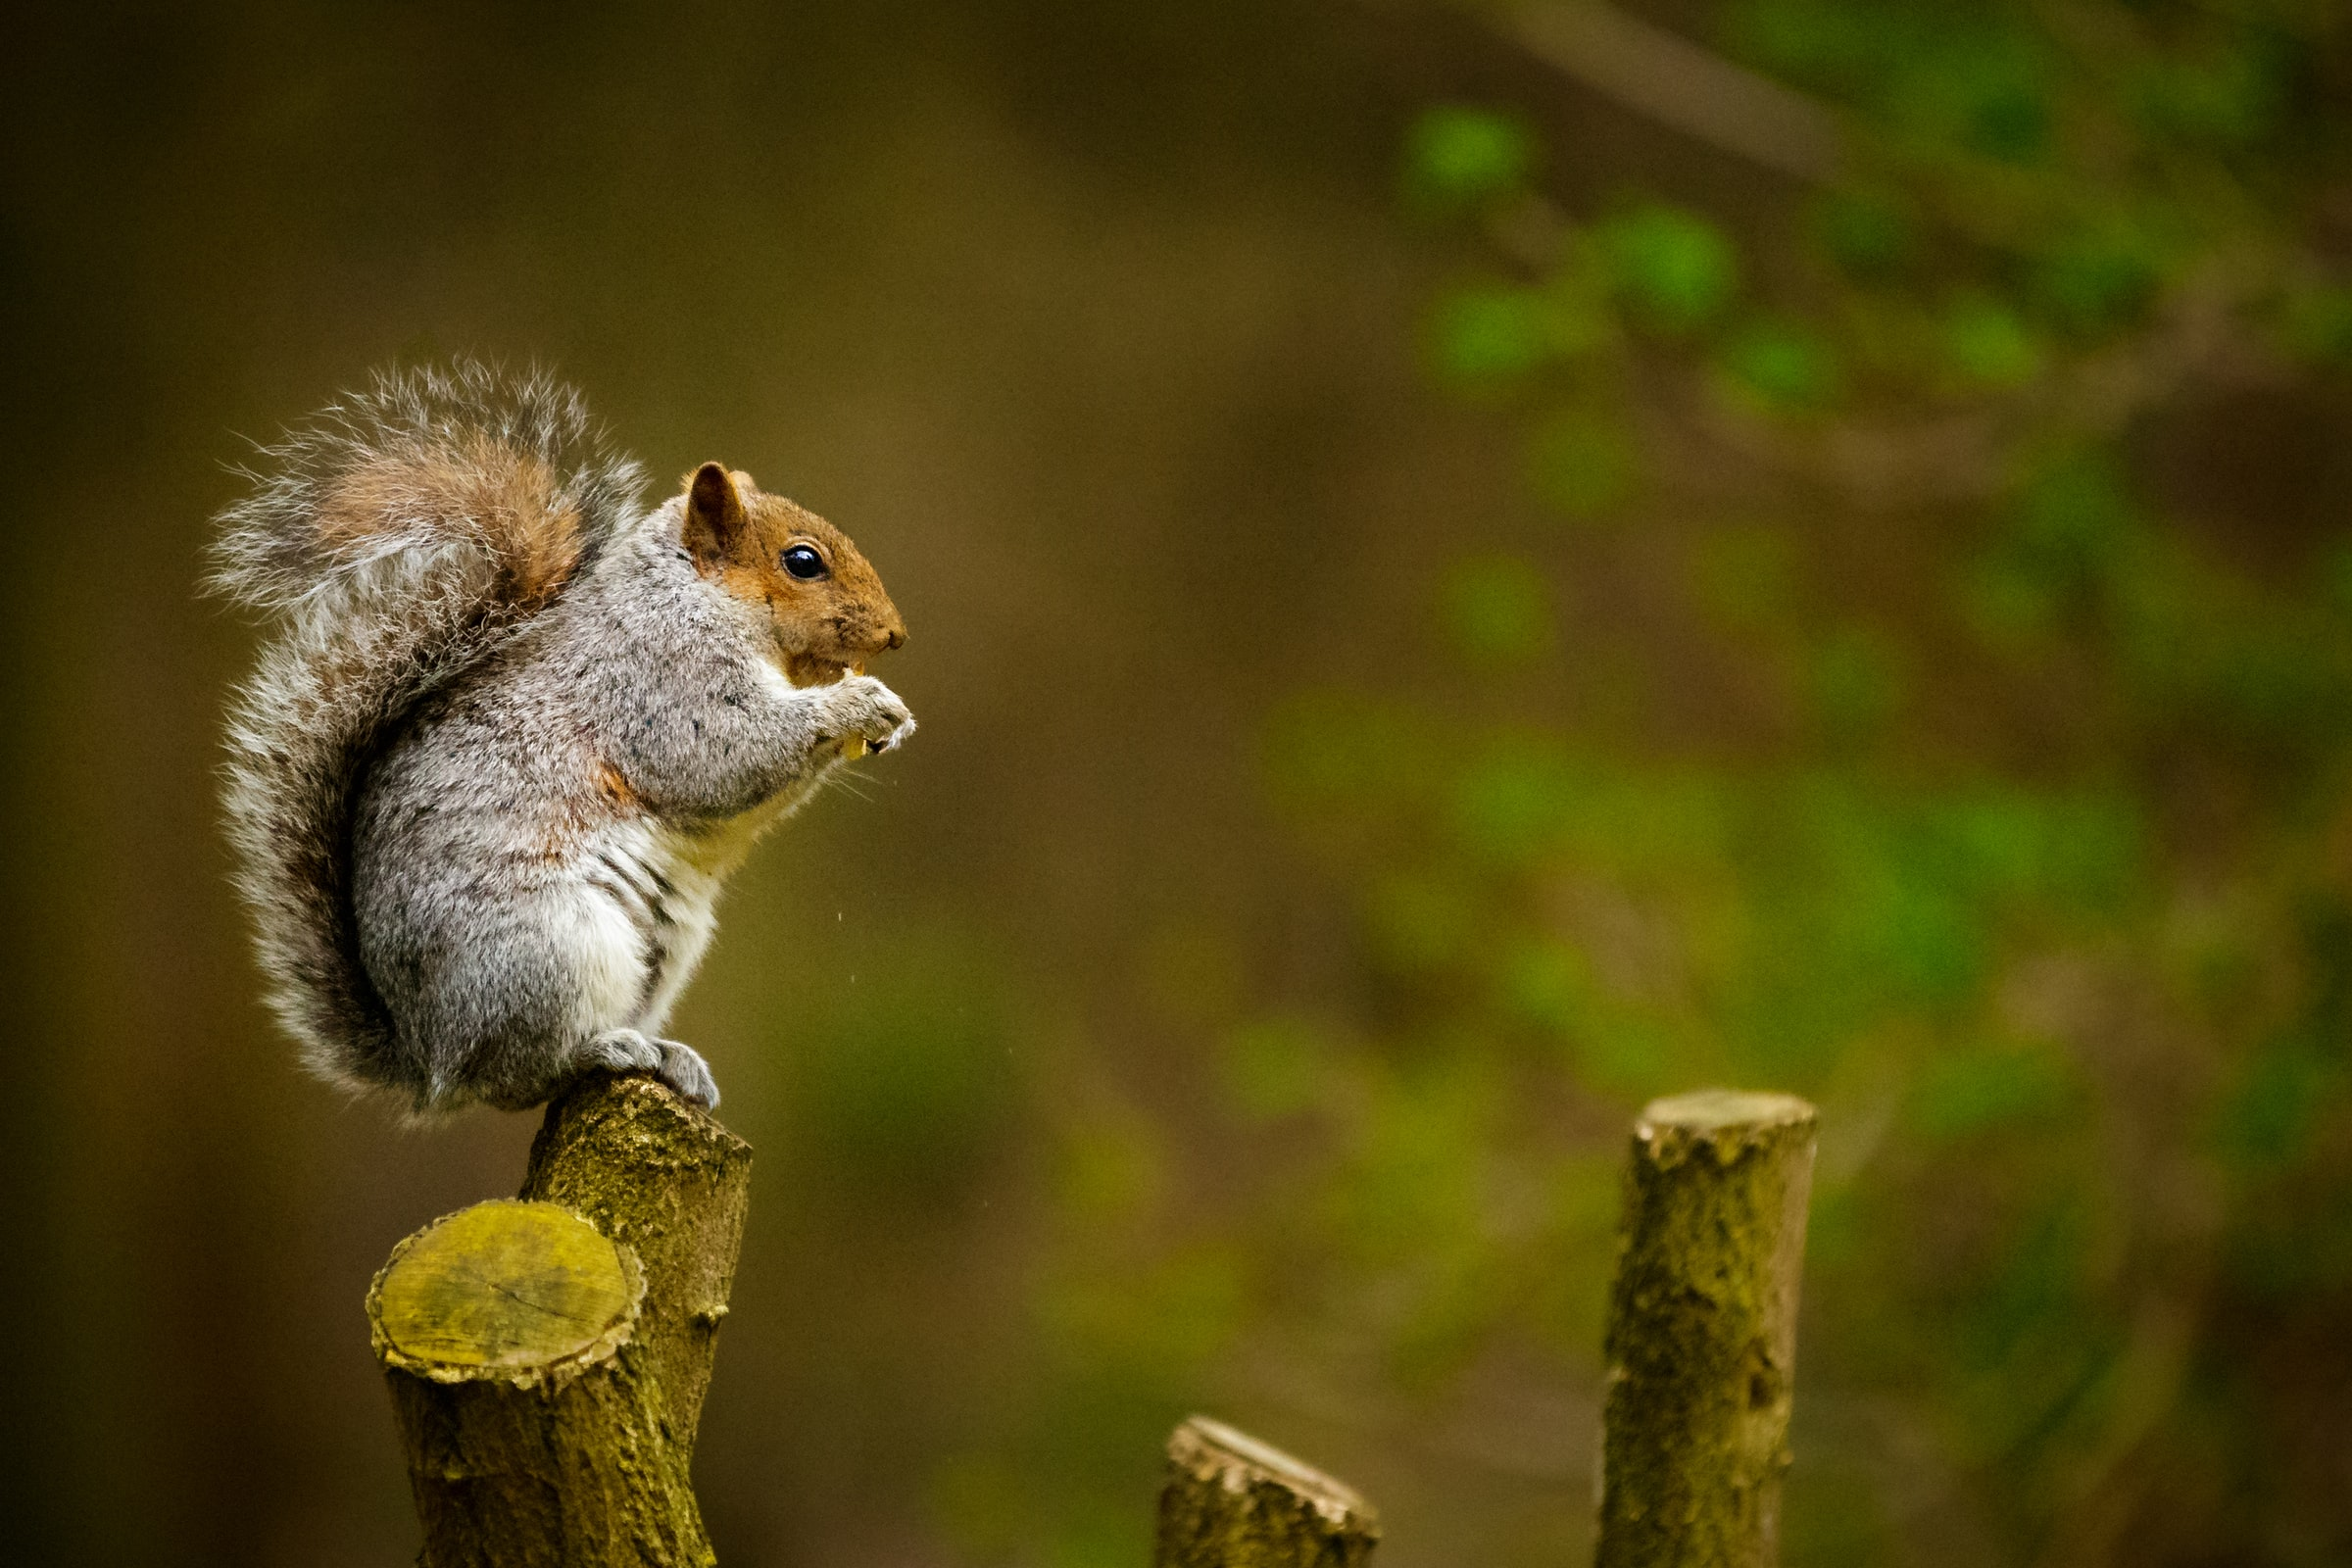squirrel: (217, 350, 920, 1129)
